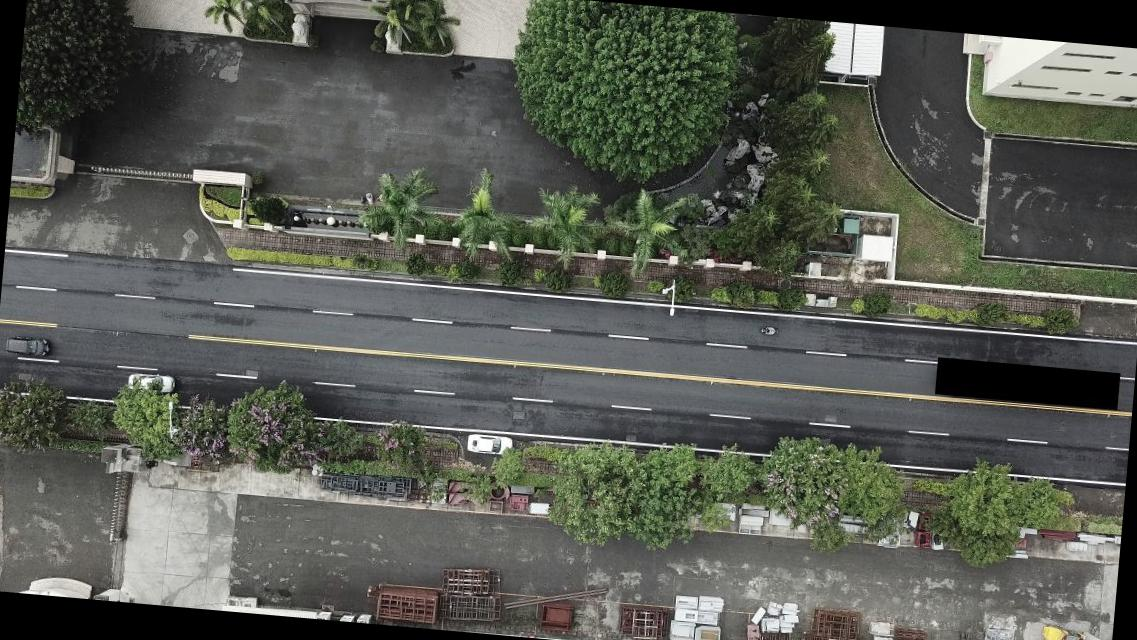vehicle: (463, 432, 512, 458), (123, 370, 175, 394), (4, 335, 49, 358)
